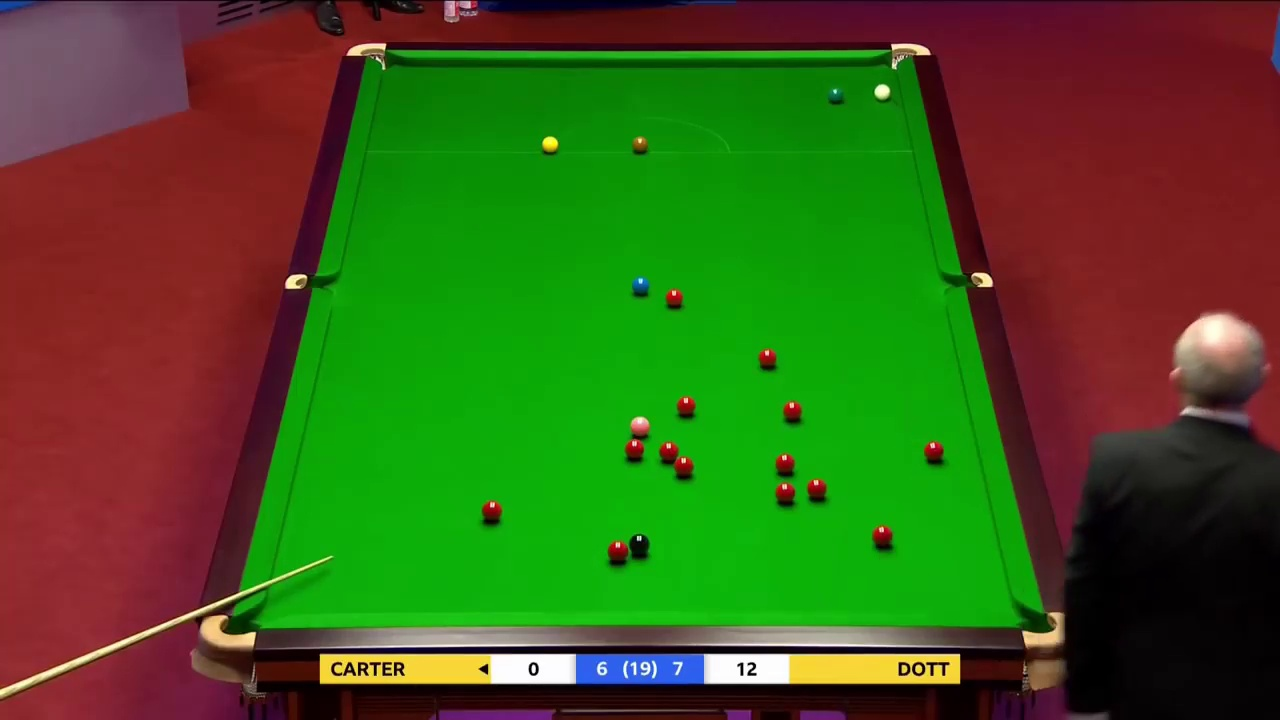ball: (869, 524, 895, 548), (606, 538, 628, 561), (922, 439, 943, 462), (757, 348, 778, 370), (481, 499, 502, 521), (806, 477, 827, 498), (624, 441, 645, 462), (663, 287, 684, 307), (775, 481, 795, 501), (775, 450, 794, 471), (631, 275, 650, 295), (674, 456, 693, 475), (628, 416, 649, 433), (632, 135, 650, 154), (784, 398, 802, 416), (540, 135, 559, 152), (873, 82, 890, 98), (678, 396, 693, 413)
